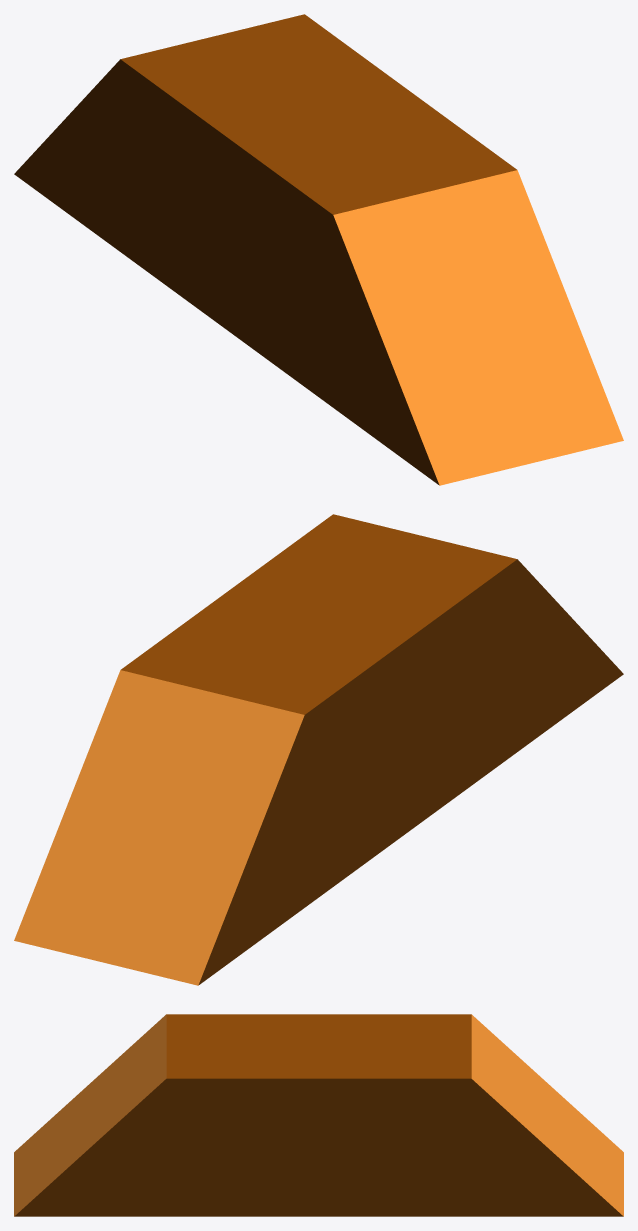
The model's file is 45slope1.dae.
The picture shows the model from 3 angles, top to bottom: view 1: azimuth 30°, elevation 25°; view 2: azimuth 150°, elevation 25°; view 3: azimuth 270°, elevation 25°; orthographic projection. The views are drawn at different scales.
Parts seen in each view (by area): view 1: SketchUp (×3); view 2: SketchUp (×3); view 3: SketchUp (×4).
Boxes of the visible parts, x1,y1,x2,y2 form: SketchUp (×3): (14,14,623,485); SketchUp (×3): (14,514,623,985); SketchUp (×4): (14,1014,623,1216).
Size of the model in its own units: 78.74 by 315 by 78.74.
